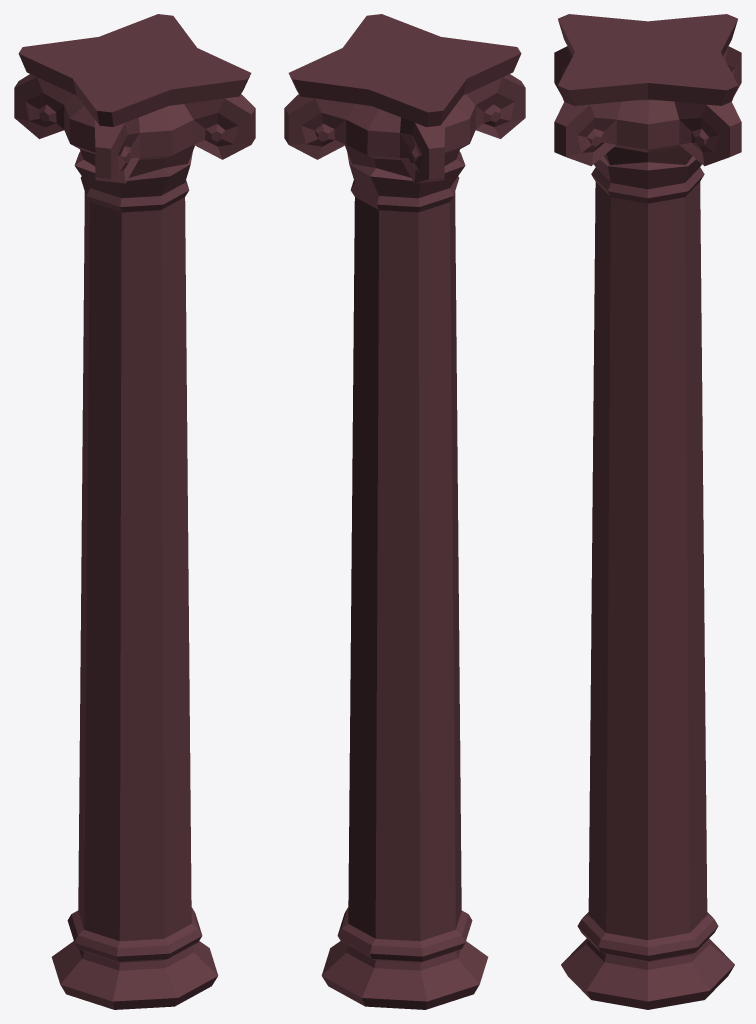
The model's file is SM_Pillar_Composite_Medium_Empire.fbx.
The picture shows the model from 3 angles, left to right: view 1: azimuth 30°, elevation 25°; view 2: azimuth 150°, elevation 25°; view 3: azimuth 270°, elevation 25°; orthographic projection.
Visible parts, largest first — view 1: SM_Pillar_Composite_Medium_Empire; view 2: SM_Pillar_Composite_Medium_Empire; view 3: SM_Pillar_Composite_Medium_Empire.
Boxes of the visible parts, x1=… form: SM_Pillar_Composite_Medium_Empire: x1=14, y1=14, x2=255, y2=1009; SM_Pillar_Composite_Medium_Empire: x1=284, y1=14, x2=525, y2=1009; SM_Pillar_Composite_Medium_Empire: x1=554, y1=14, x2=741, y2=1009.
Size of the model in its own units: 1.1 by 6 by 1.1.
